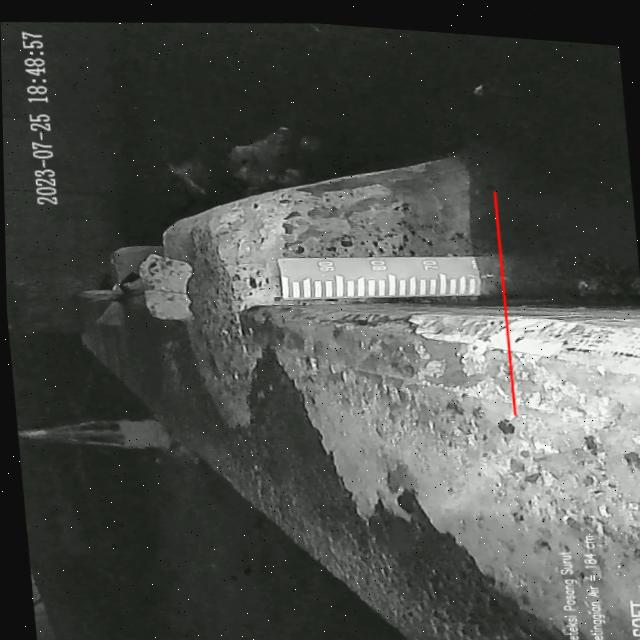water-meter: (264, 230, 504, 320)
